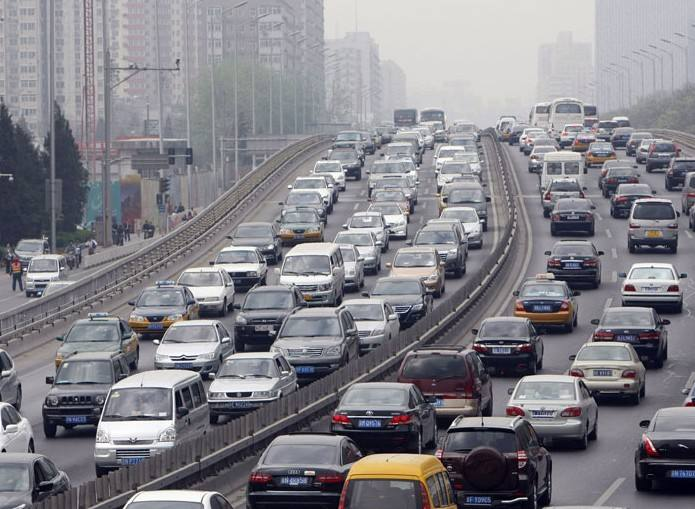car: (471, 316, 544, 373), (511, 274, 577, 331), (384, 246, 446, 297)
microbus: (539, 151, 586, 205), (548, 96, 586, 144)
suv: (397, 344, 493, 427), (268, 304, 360, 382)
truck: (93, 369, 211, 476), (272, 240, 344, 307), (628, 198, 681, 252)
